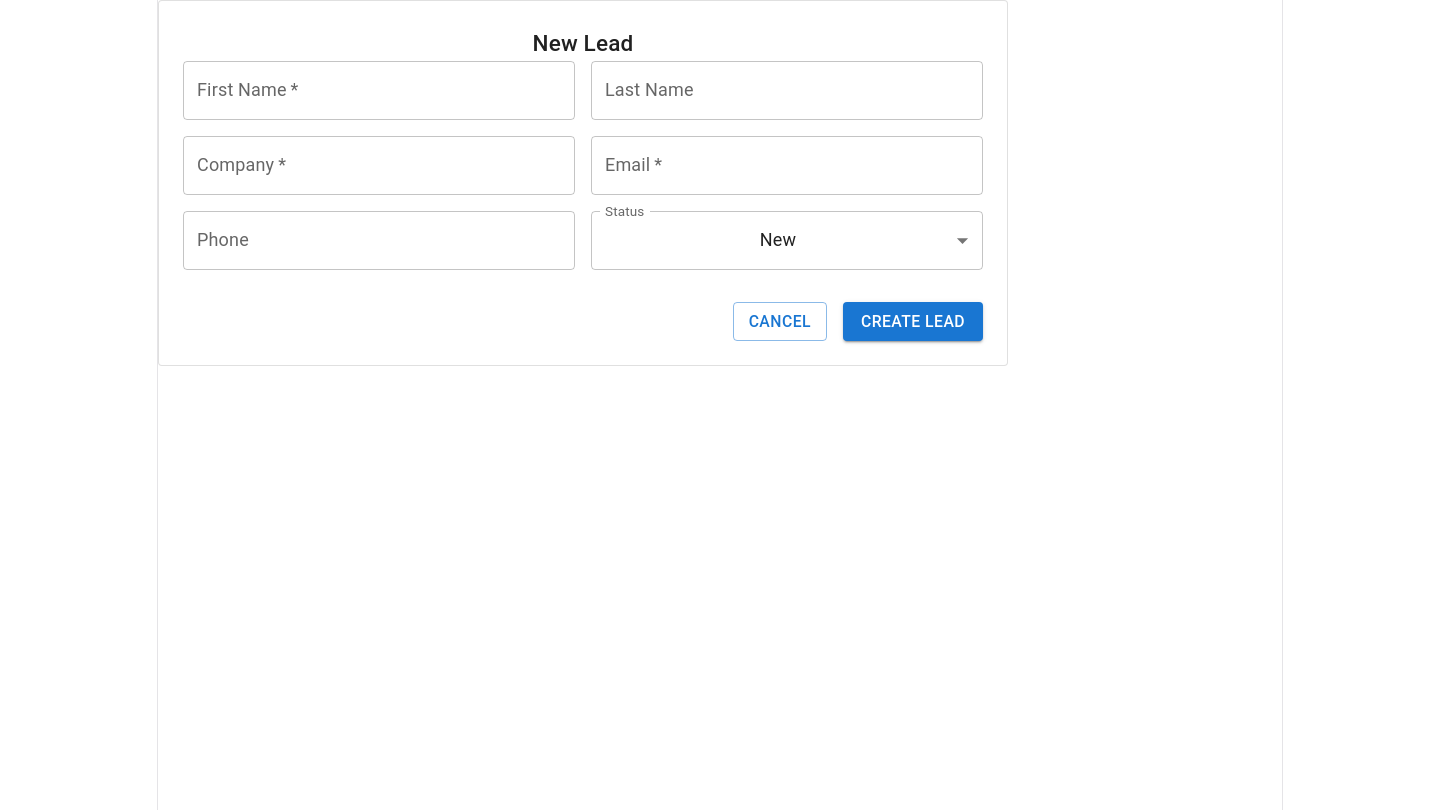
Test: LeadFormPage › shows validation error when Company is empty
Type "Jane" into the field labelled "First Name *".
click(379, 90); type("Jane")  # box [183,61,575,120]
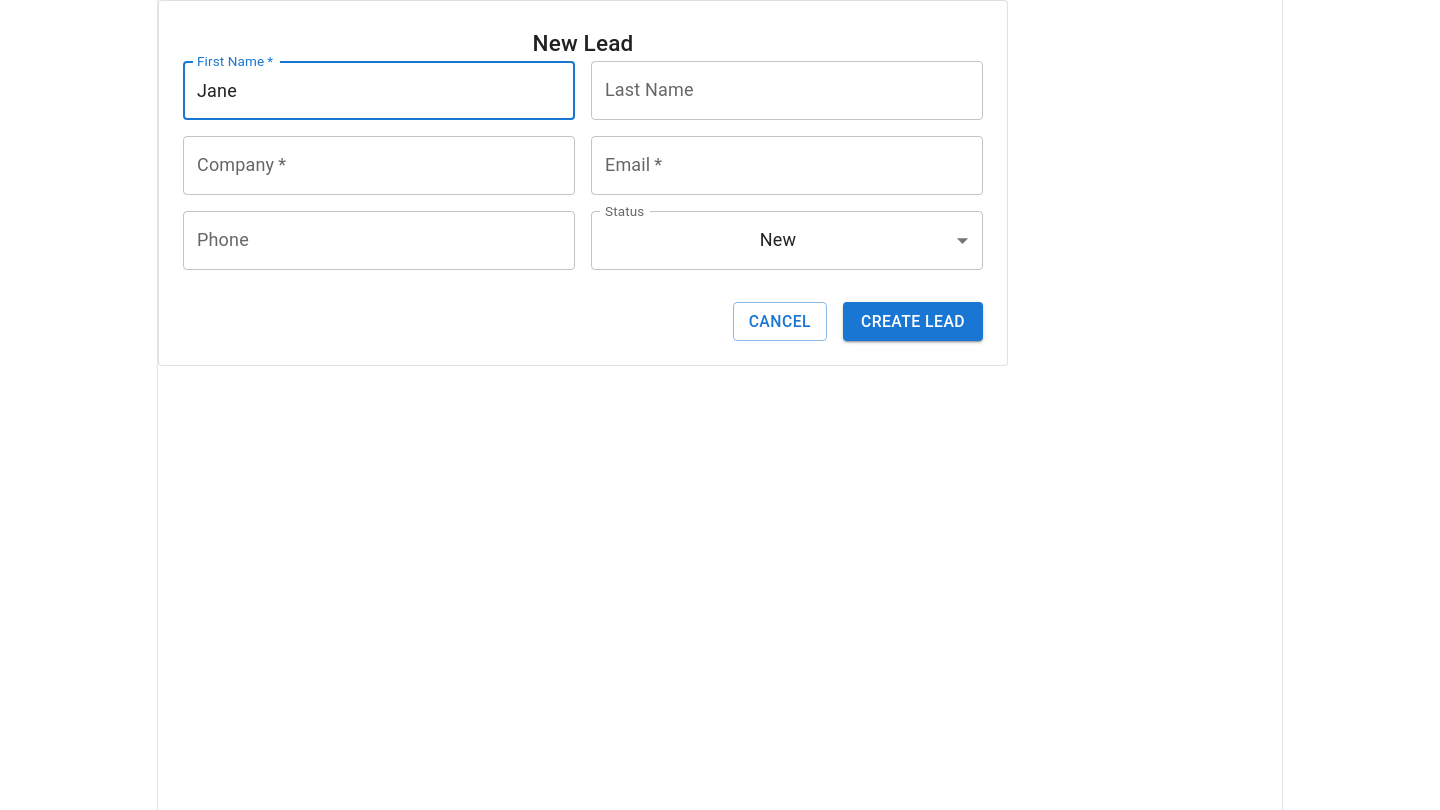
Click the button "Create Lead".
click(913, 321)  # box [843,302,983,341]
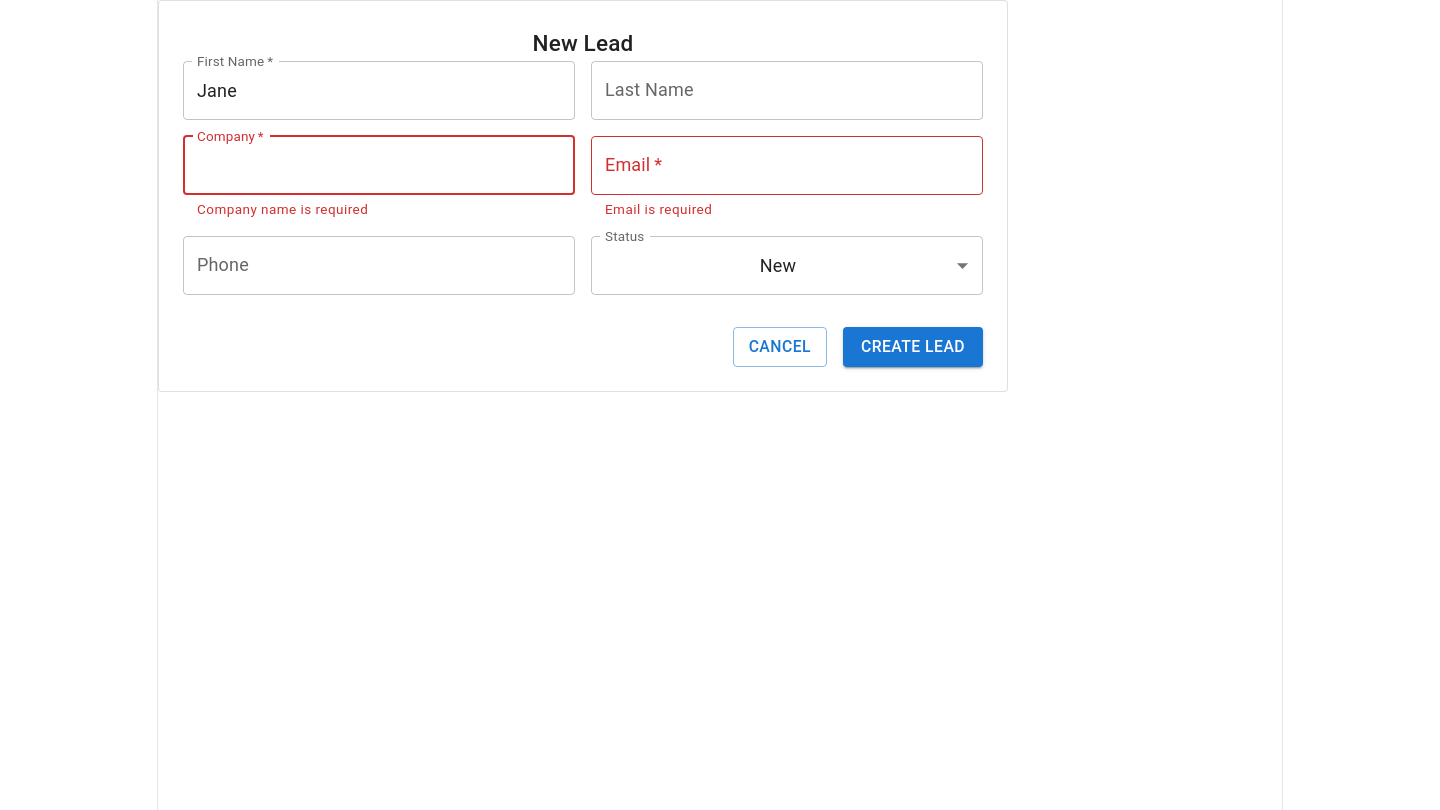
Now the text "Company name is required" is shown, box [197,201,368,217]
